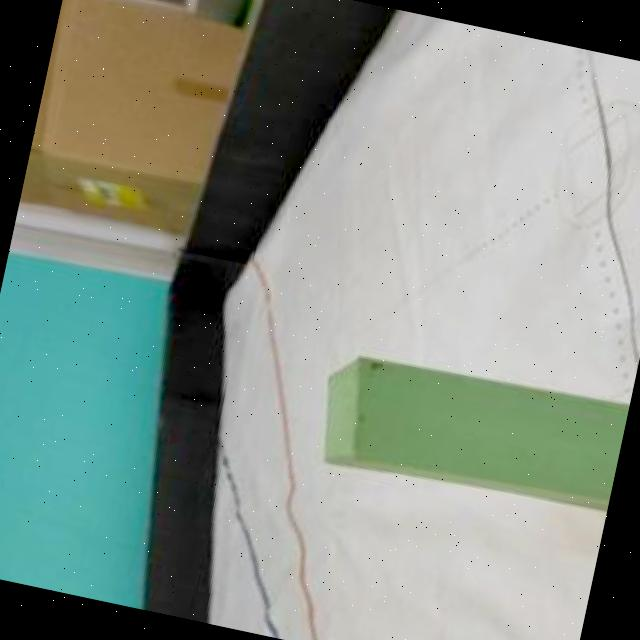greenbox: (306, 336, 630, 524)
